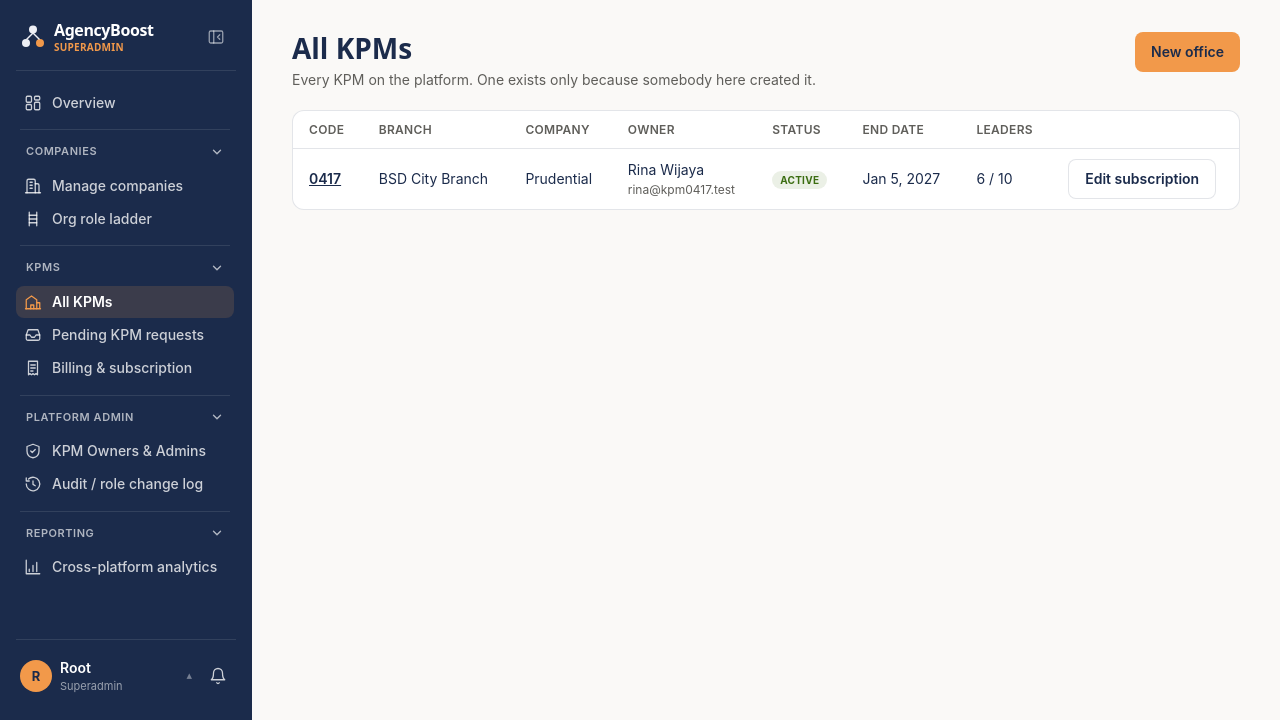
it: tenants list › subscriptions (P13.2-T3 AC-7, P13.2-T4 AC-7) › warns, before saving, when the limit is below the leaders used — and lowering it demotes nobody
Click the button with aria-label "Edit subscription for KPM 0417" at x=1142, y=179, box top-left (1068, 159), bottom-right (1216, 199)
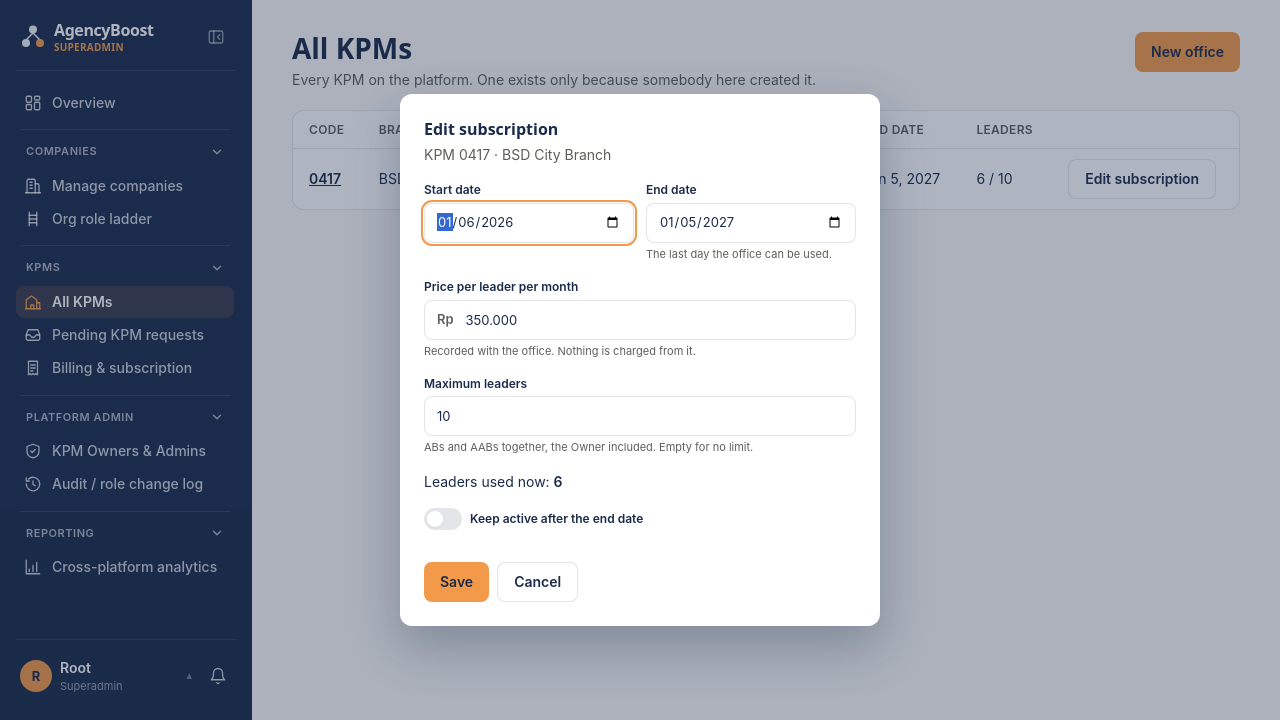
Replace the text in the field labelled "Maximum leaders" with "4" at x=640, y=416, box top-left (424, 396), bottom-right (856, 436)
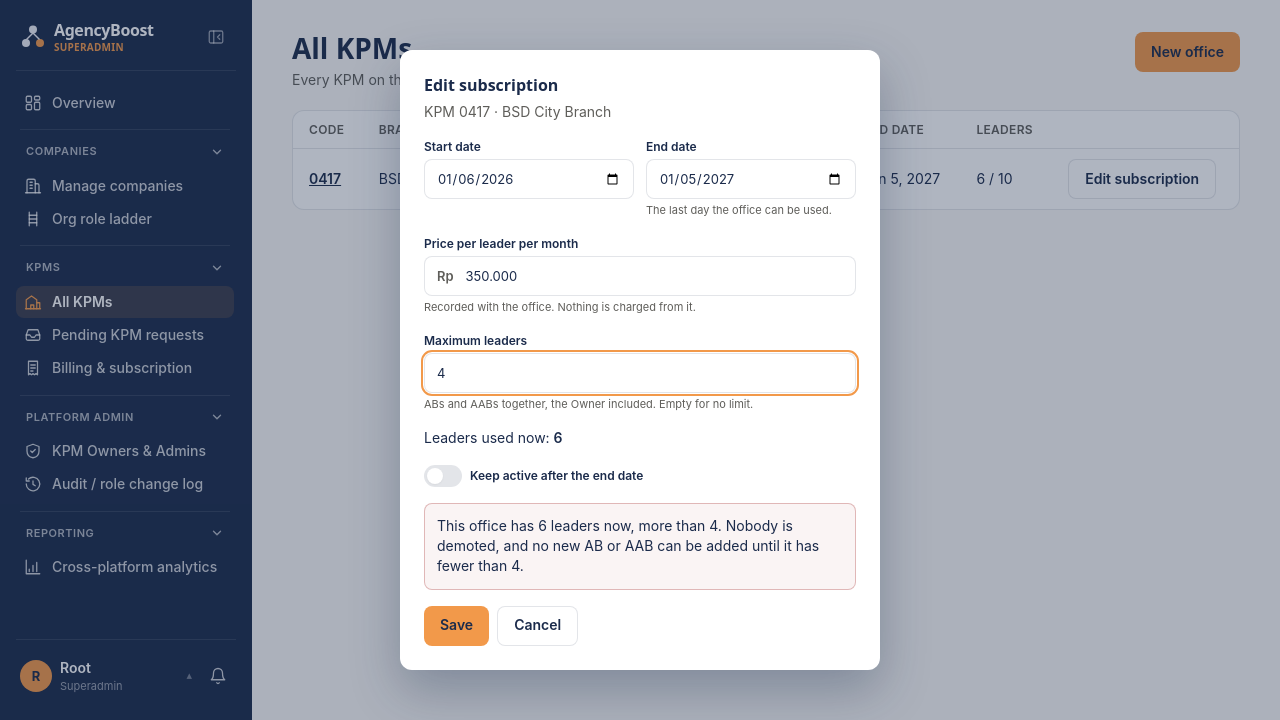
Expected: the dialog shows "This office has 6 leaders now, more than 4. Nobody is demoted", top-left (400, 50), bottom-right (880, 670)
